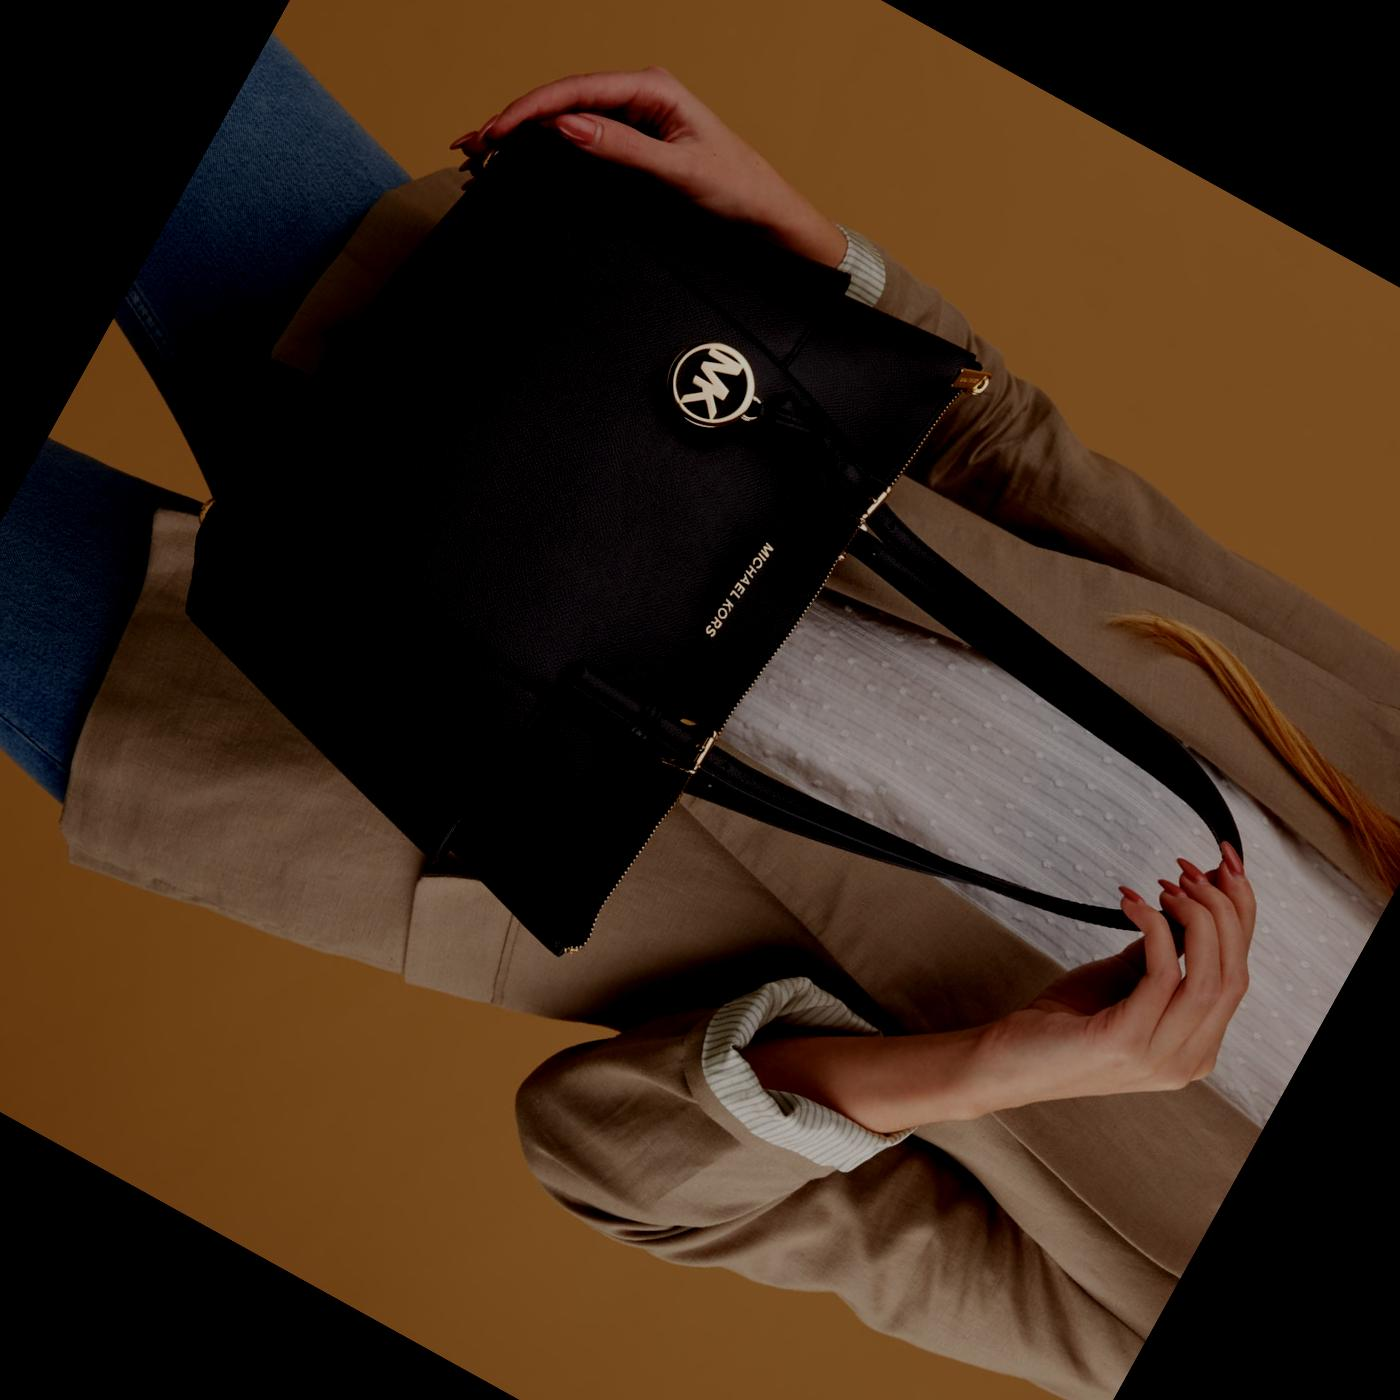MICHAEL-KORS: (701, 536, 774, 642)
